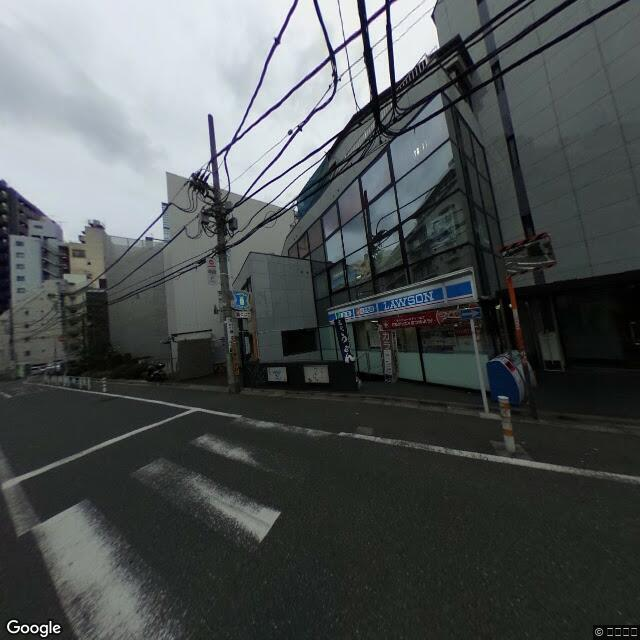lawson: (328, 273, 475, 327), (229, 287, 252, 313)
